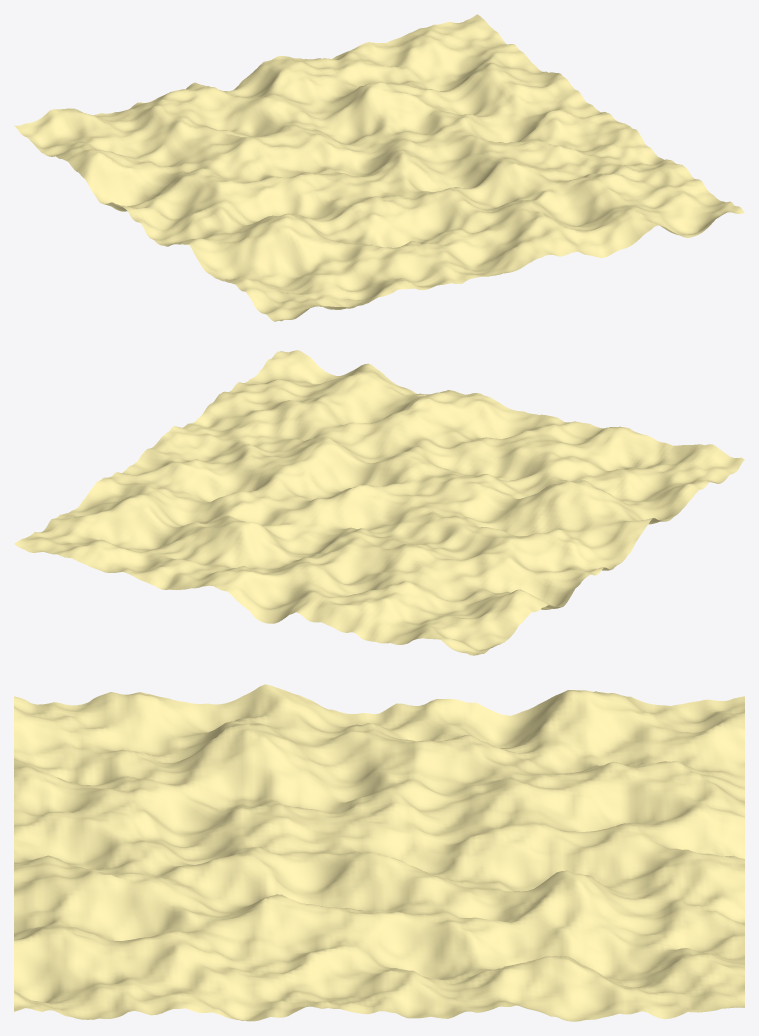
Rendered from FryerOil.fbx.
3 renders of one model, top to bottom at view 1: azimuth 30°, elevation 25°; view 2: azimuth 150°, elevation 25°; view 3: azimuth 270°, elevation 25°, orthographic. The views are drawn at different scales.
Visible parts, largest first — view 1: Plane.004; view 2: Plane.004; view 3: Plane.004.
Boxes of the visible parts, x1,y1,x2,y2 form: Plane.004: (14,14,744,321); Plane.004: (14,350,744,655); Plane.004: (14,684,744,1021).
Size of the model in its own units: 267 by 24.01 by 267.
